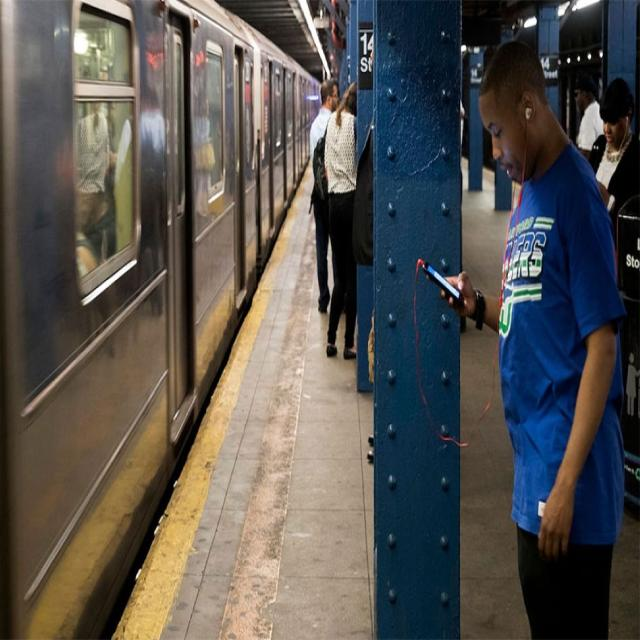body: (400, 31, 626, 639), (77, 75, 217, 280), (589, 76, 640, 426), (322, 79, 358, 362), (308, 77, 341, 316), (570, 66, 606, 166), (240, 99, 277, 171), (460, 91, 466, 167), (366, 427, 373, 468)
